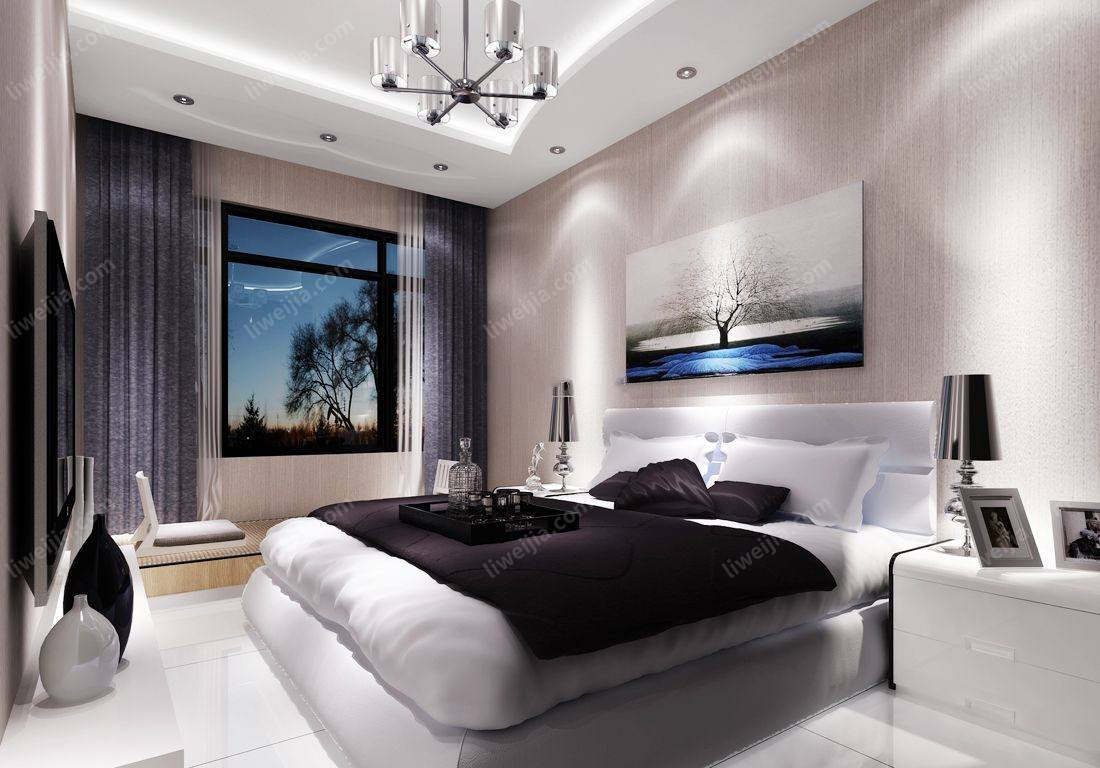床: (239, 497, 947, 751)
枕头: (588, 426, 897, 534)
灯: (365, 10, 567, 138), (929, 363, 1009, 551), (536, 375, 585, 493), (674, 64, 703, 83), (172, 90, 195, 109), (315, 128, 339, 146), (544, 143, 567, 159)
